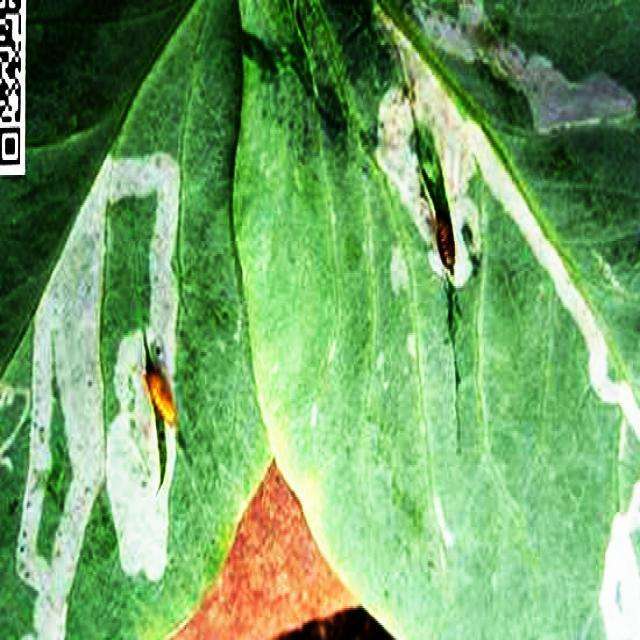whorl-maggot: (134, 358, 189, 440), (432, 201, 464, 284)
